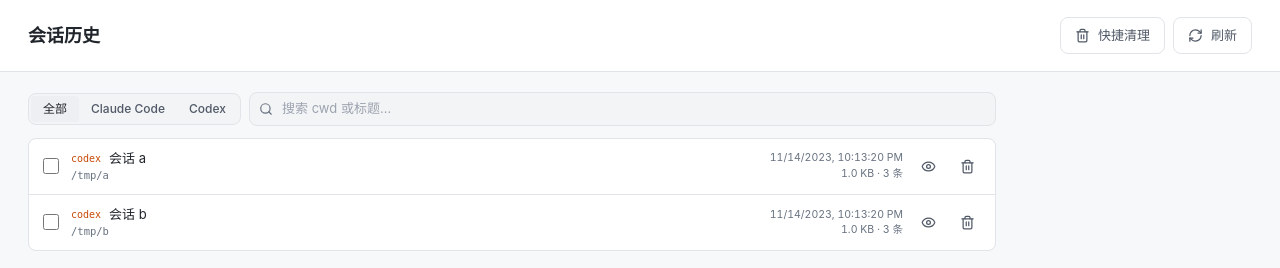
Scenario: HistoryPage — 删除 › 勾选后才出现批量删除按钮，且带选中数
expect the text "会话 a" is shown: met, box [109,148,146,168]
expect the button "删除选中" is not shown: met
Click the checkbox named "选择 会话 a". click: (51, 166)
box: [43,158,59,174]
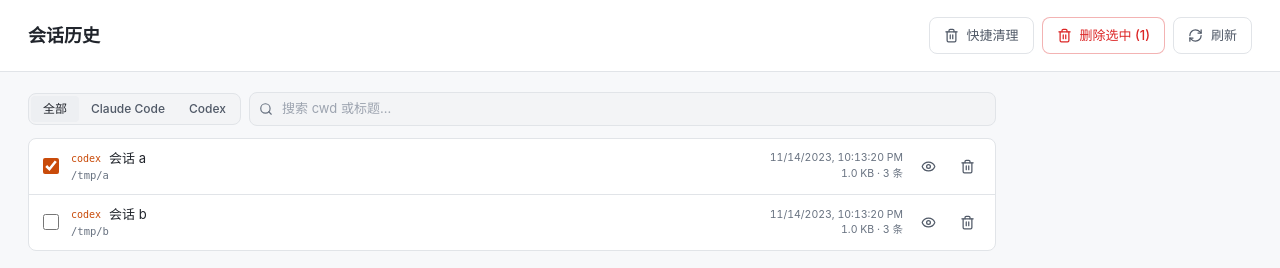
expect the button "删除选中 (1)" is shown: met, box [1042,17,1165,54]
Click the checkbox named "选择 会话 b". click: (51, 222)
box: [43,214,59,230]
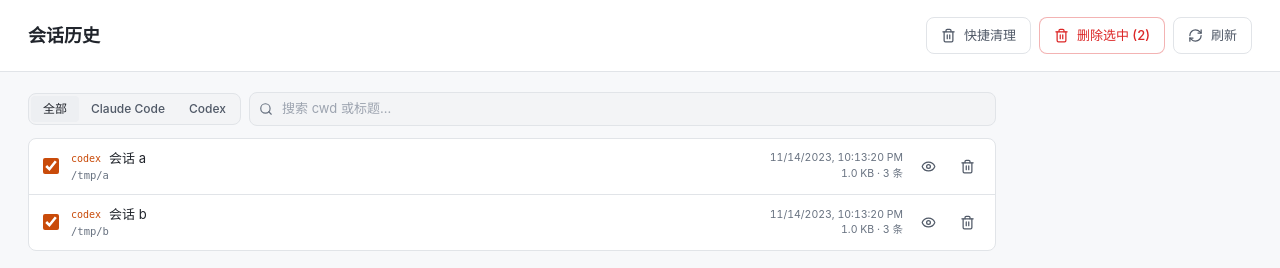
expect the button "删除选中 (2)" is shown: met, box [1039,17,1165,54]
